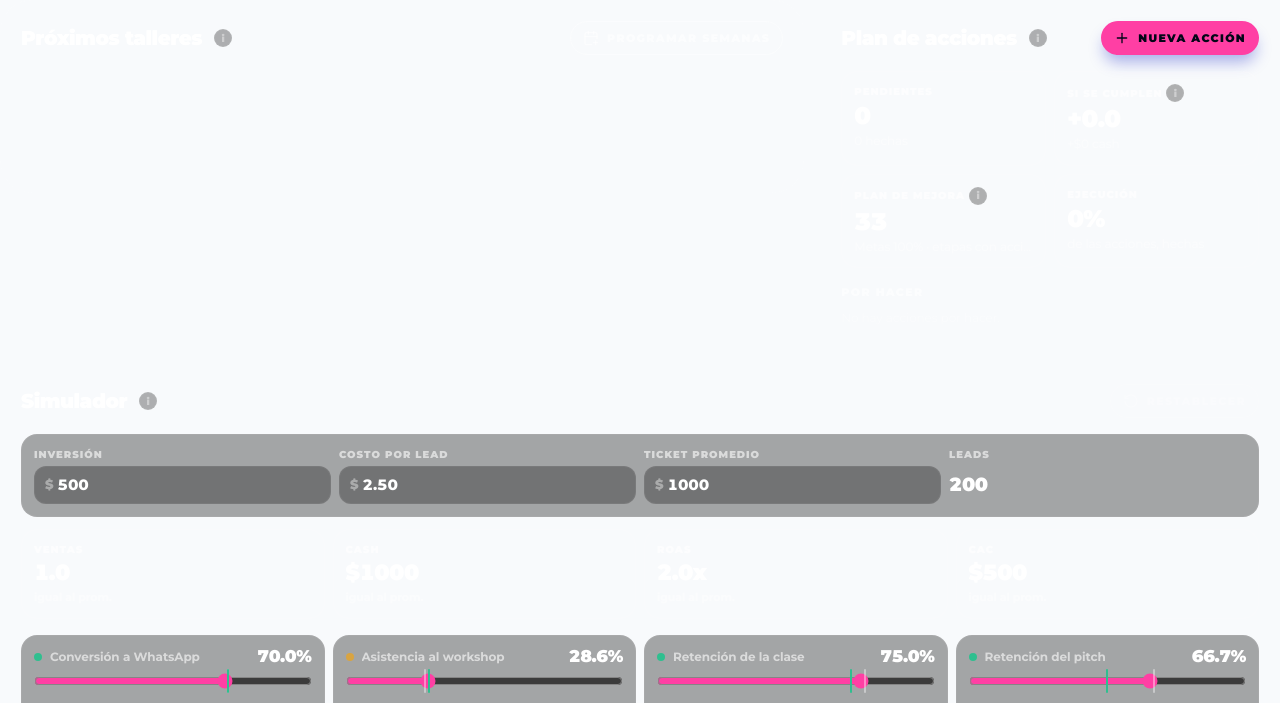
Scenario: Workshop › Planificar › una palanca subida se vuelve una acción del siguiente taller
Set the slider named "Asistencia al workshop" to "35" at (445, 681), box [346,672,623,690]
(page scrolled)
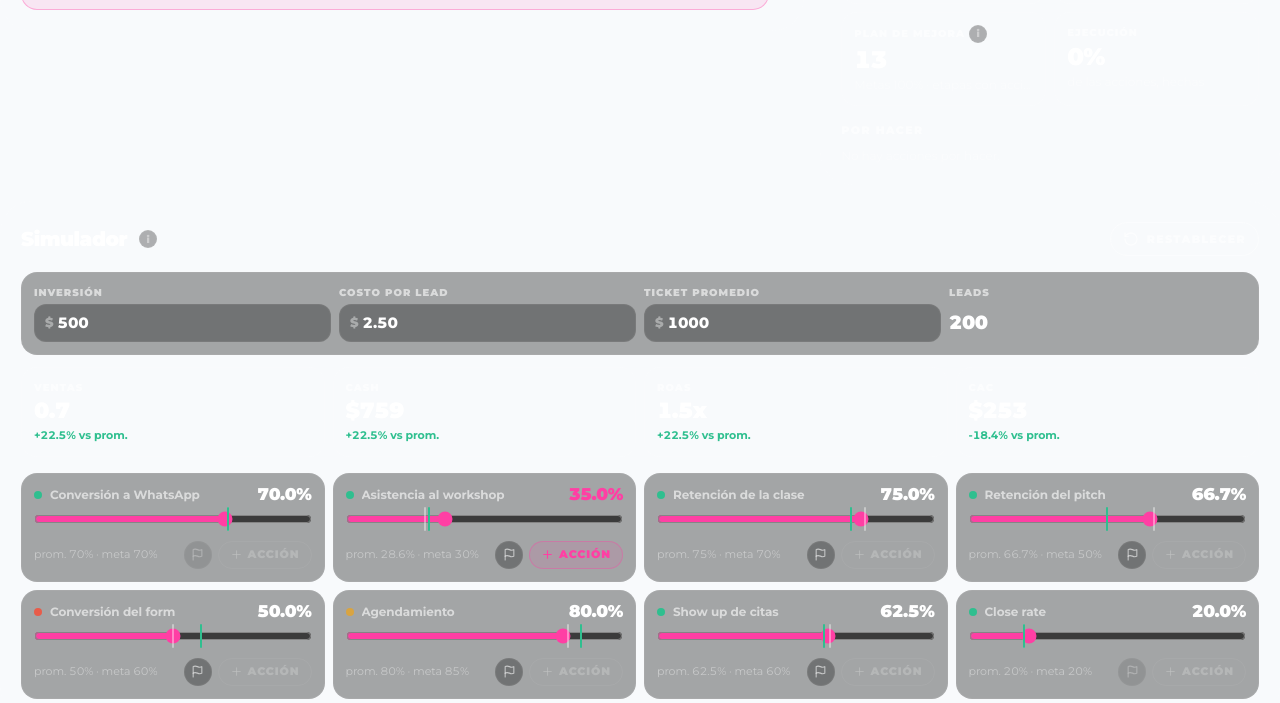
Click the button with aria-label "Crear acción: Asistencia al workshop" at (576, 555), box [529,541,623,569]
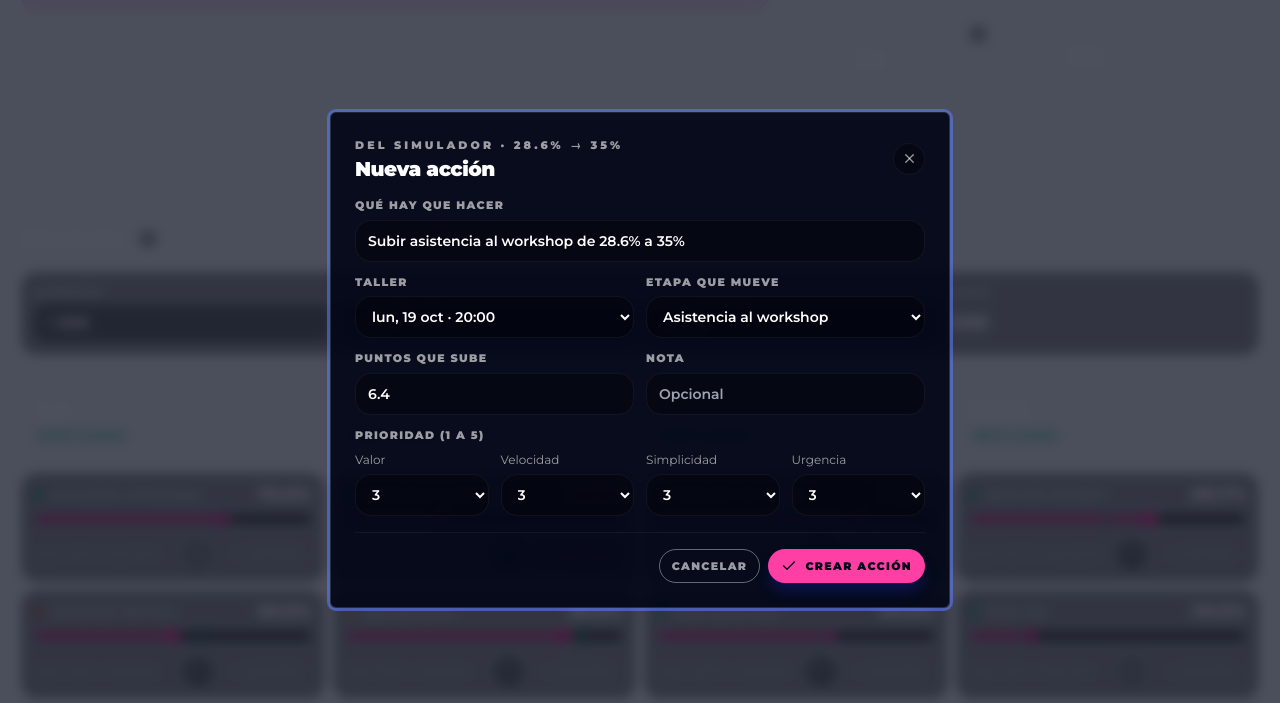
Check: the text "Del simulador · 28.6% → 35%" is shown, box [355,138,623,152]
Check: the field labelled "Qué hay que hacer" holds "Subir asistencia al workshop de 28.6% a 35%", box [355,220,925,262]
Check: the dropdown labelled "Taller" shows "lun, 19 oct · 20:00", box [355,296,634,338]
Click the button "Crear acción" at (847, 566), box [768,549,925,583]
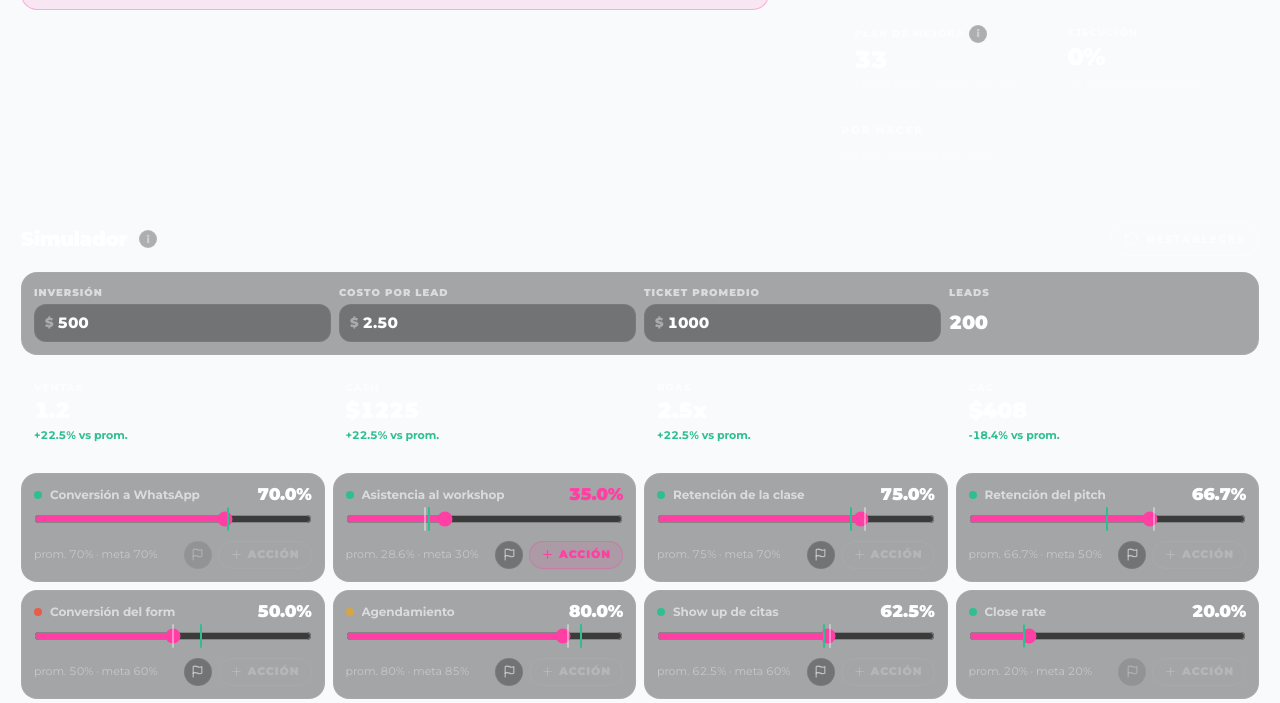
Check: the dialog is gone
